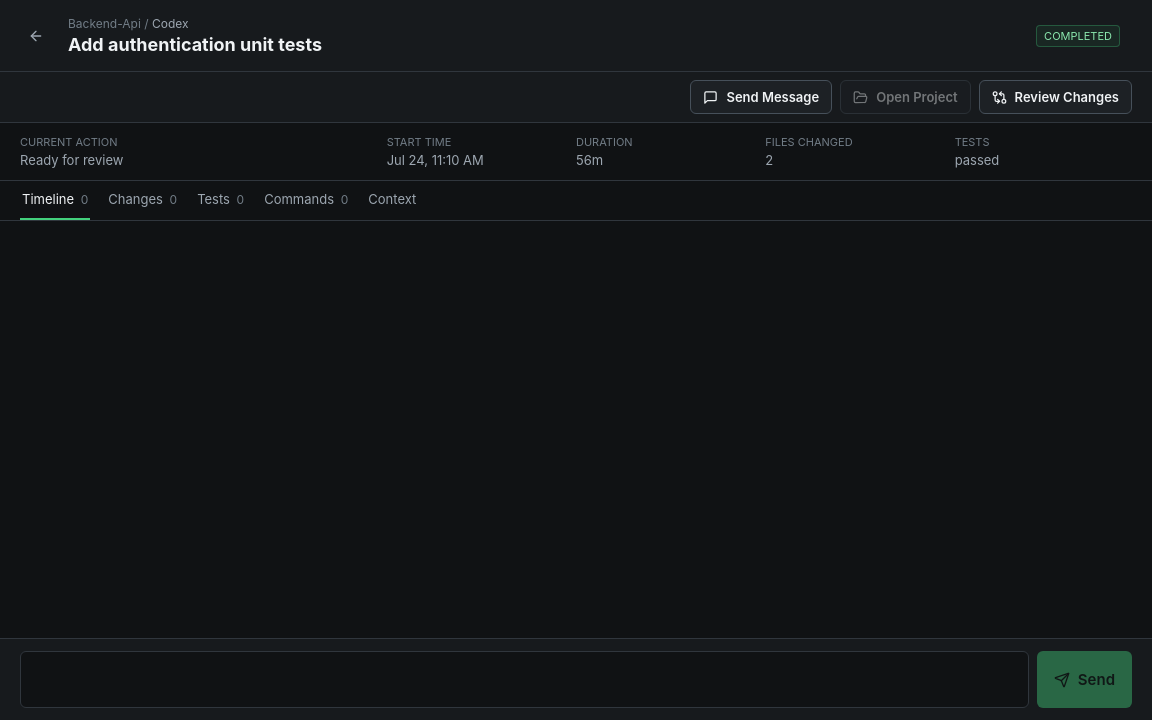
Test case: SessionDetailPage › renders details and persists a follow-up message
Expected: the heading "Add authentication unit tests" is shown, [68,34,322,55]
Type "Add an edge-case test." into the text box named "Follow-up message" at (524, 680), box [20,651,1029,708]
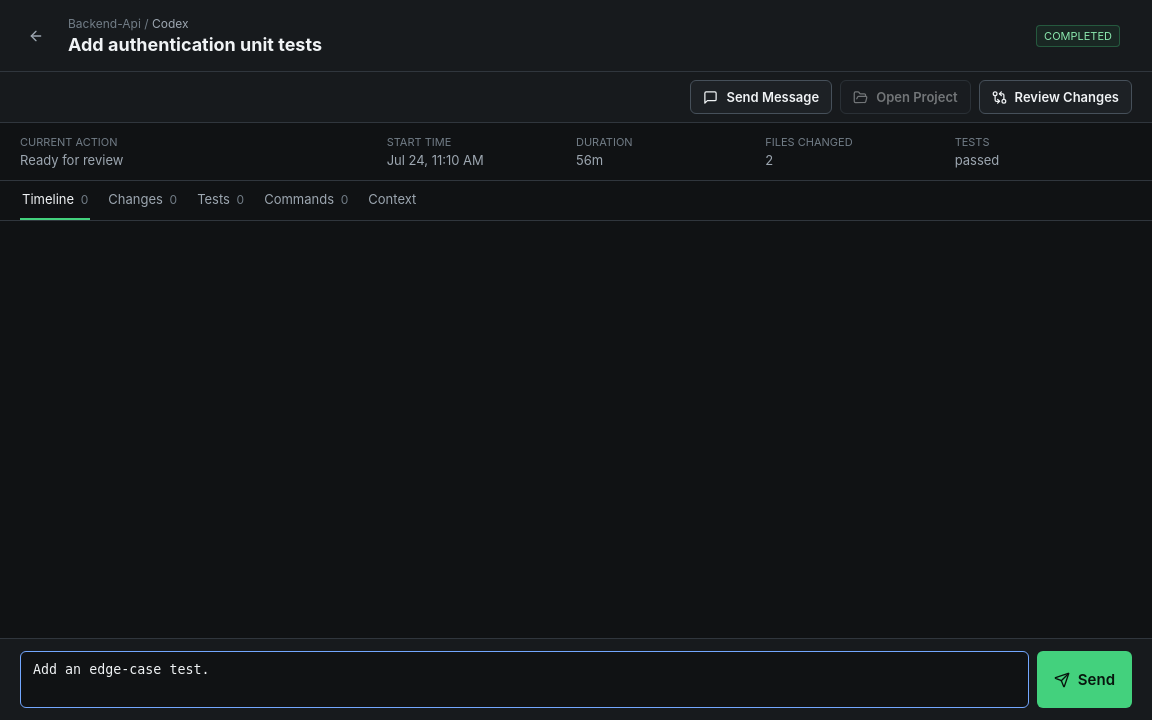
Click the button with aria-label "Send follow-up" at (1084, 680), box [1037,651,1132,708]
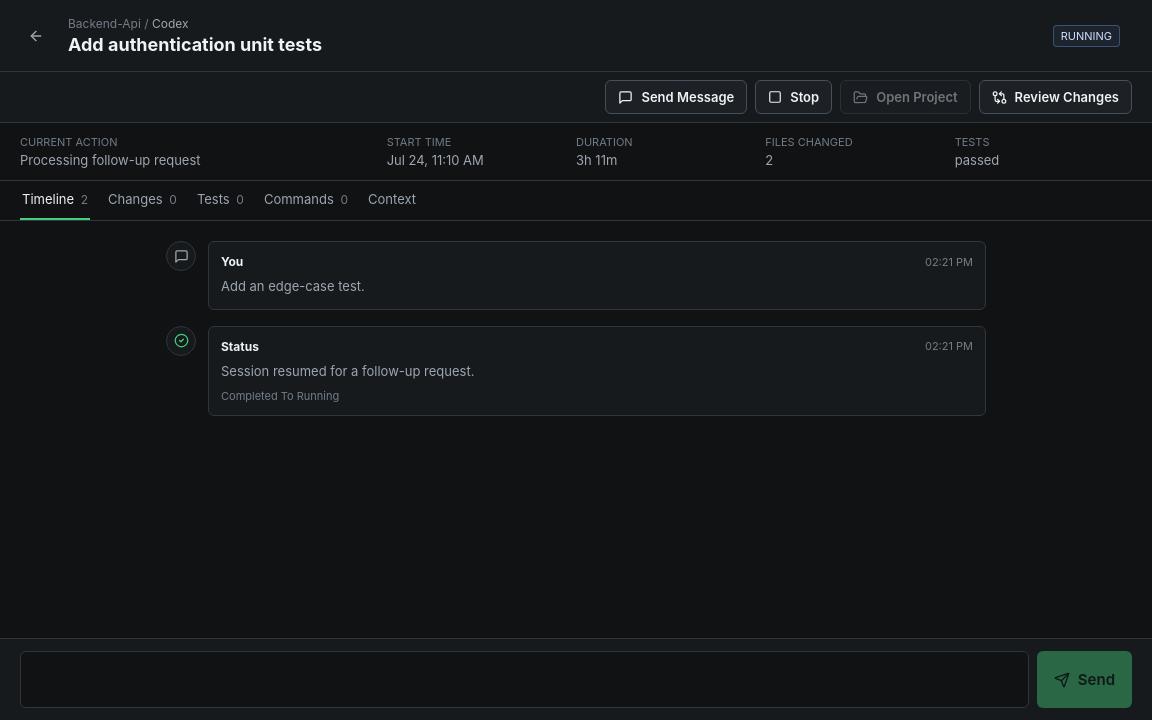
Expected: the text "Add an edge-case test." is shown, [221,278,365,294]
Expected: the text "running" is shown, [1053,24,1120,46]
